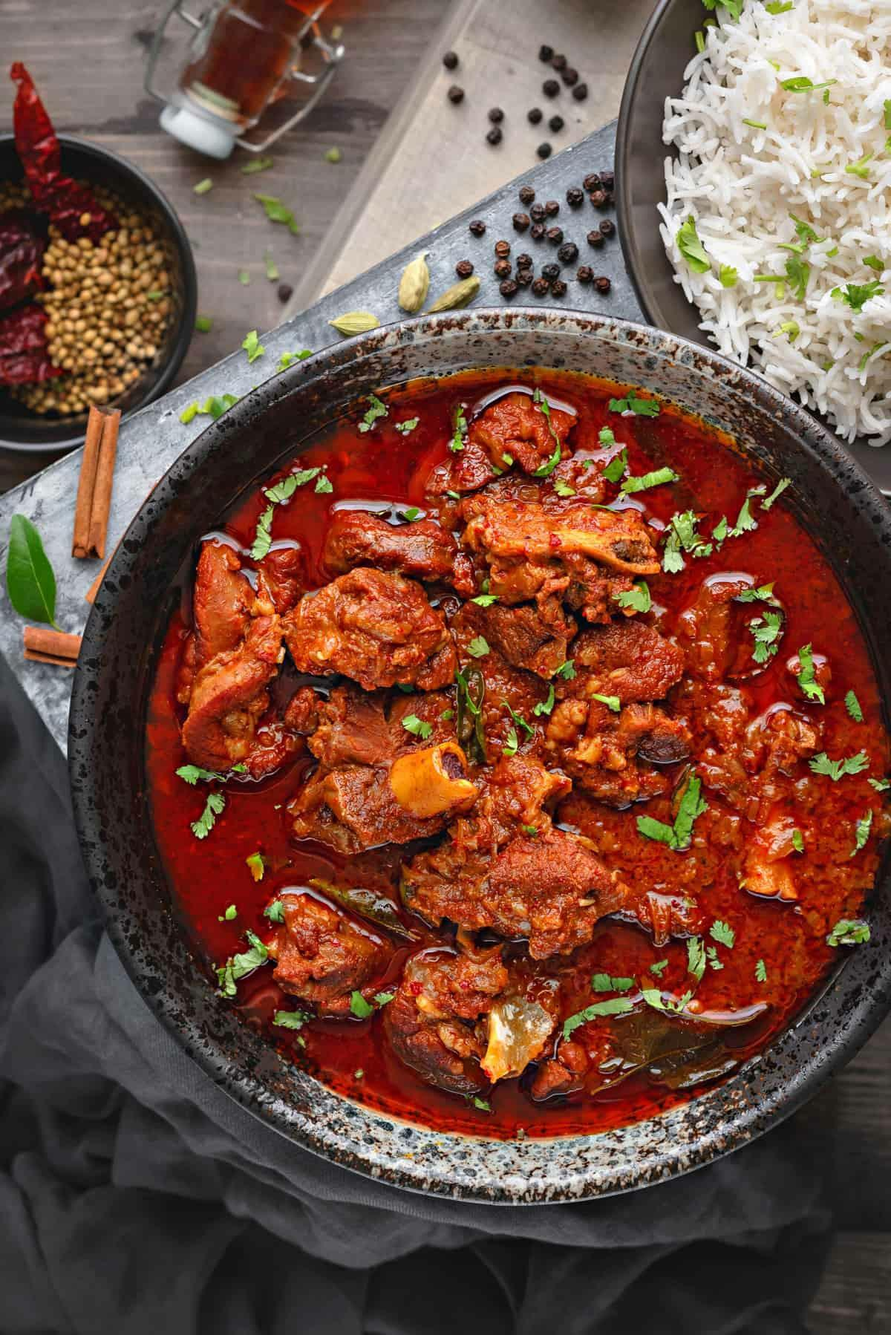MuttonCurry: (147, 368, 891, 1126)
